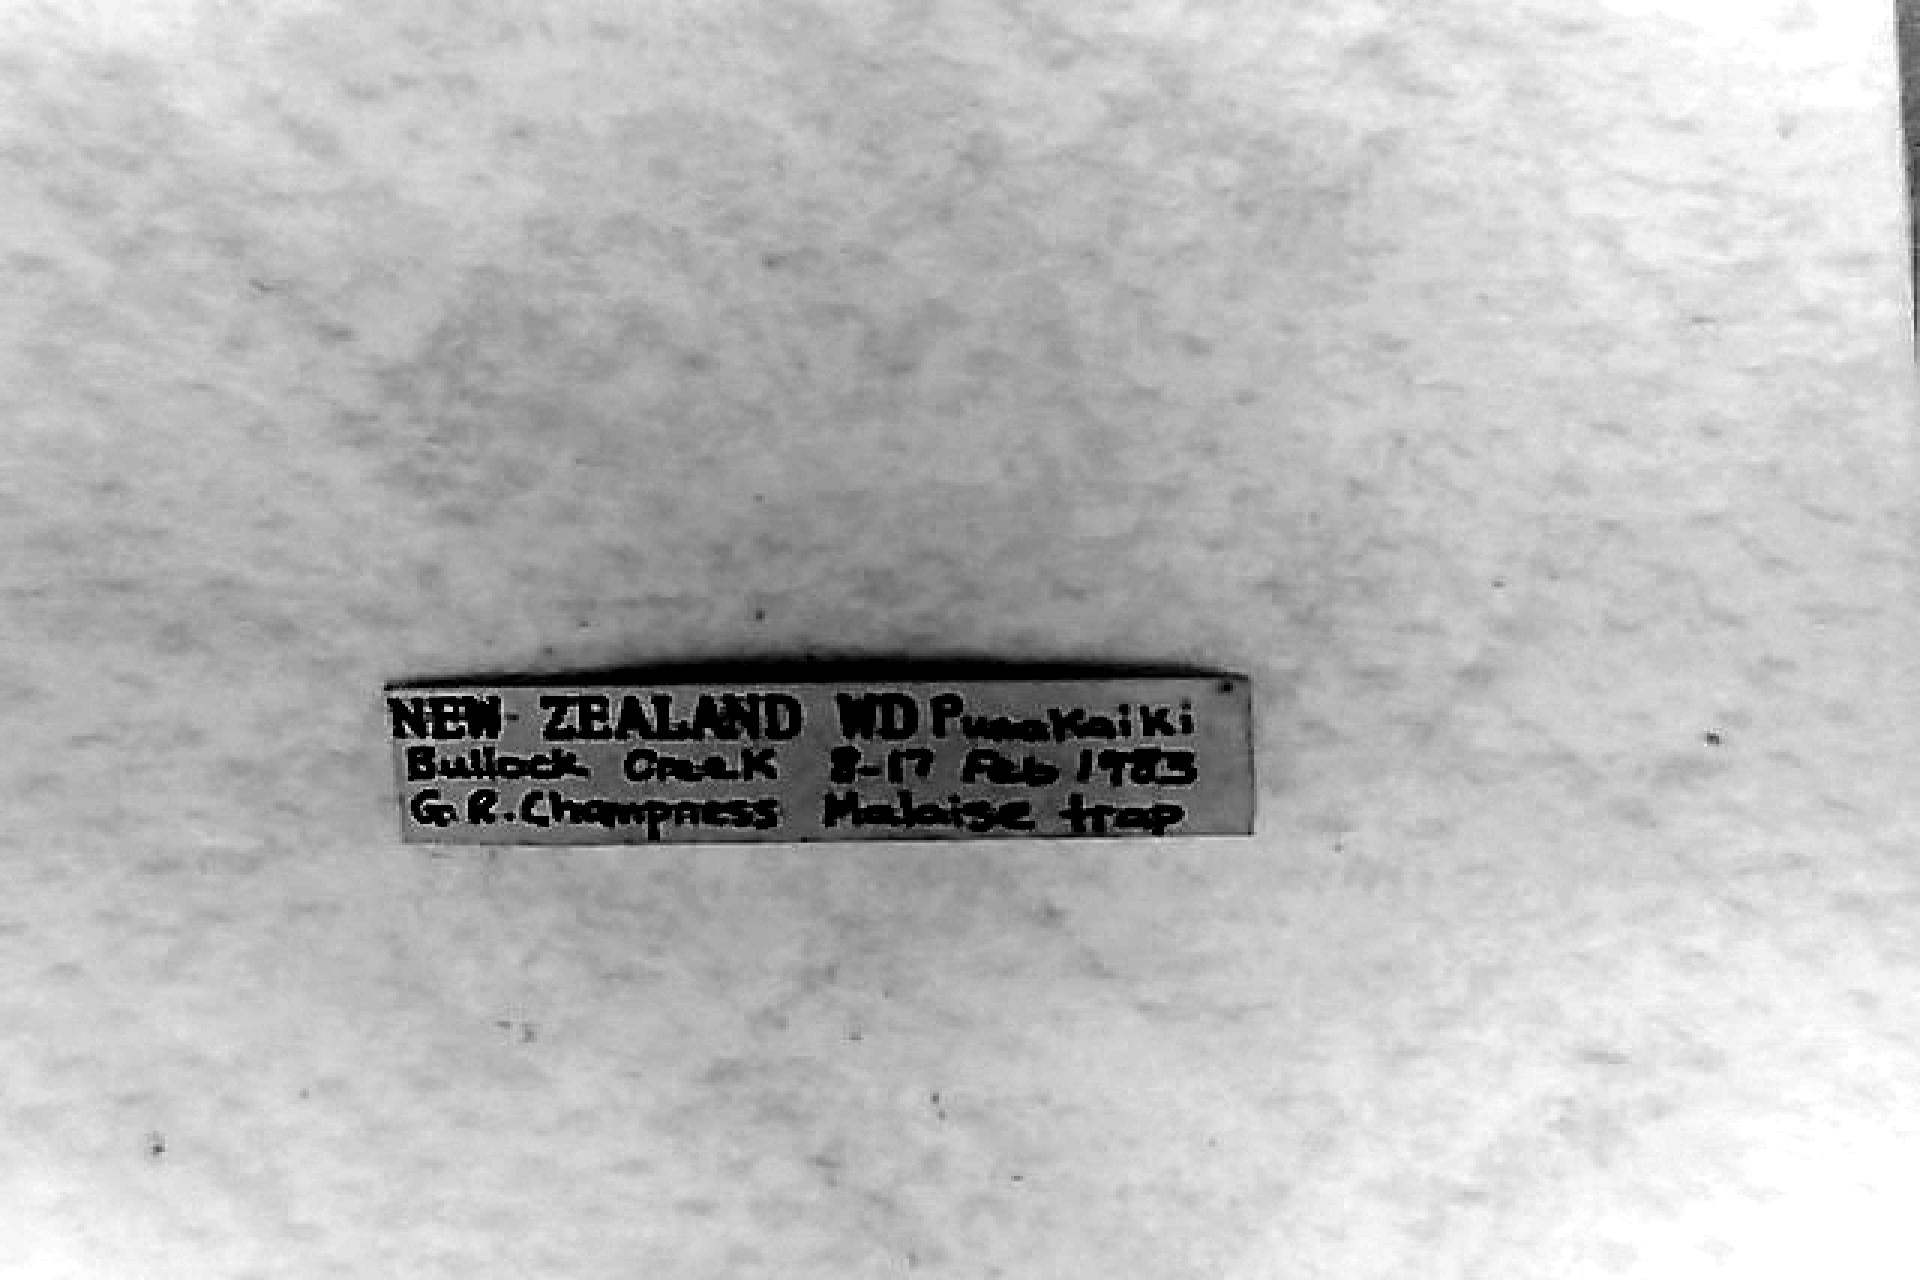mixed_label: (386, 677, 1249, 841)
